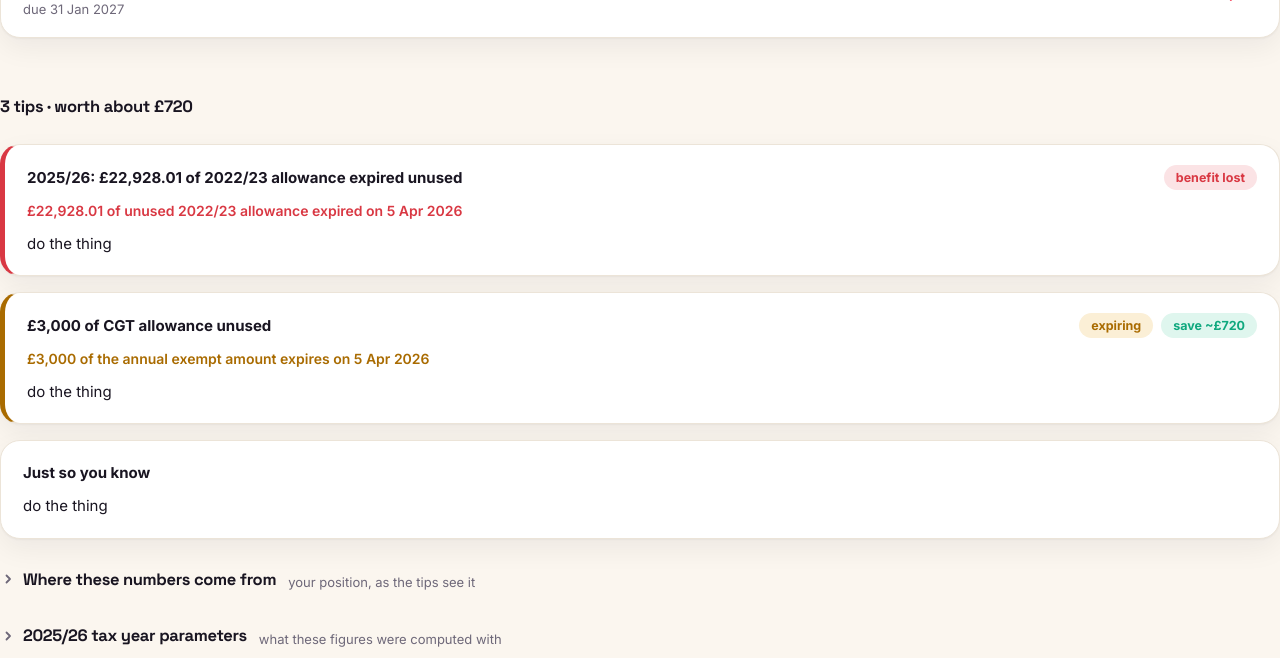
Test case: the year parameters are on the page, with the gov.uk page they came from
The width and height of the screenshot is (1280, 658).
(page scrolled)
Click the button "2025/26 tax year parameters".
click(123, 636)  # box [0,623,247,649]
(page scrolled)
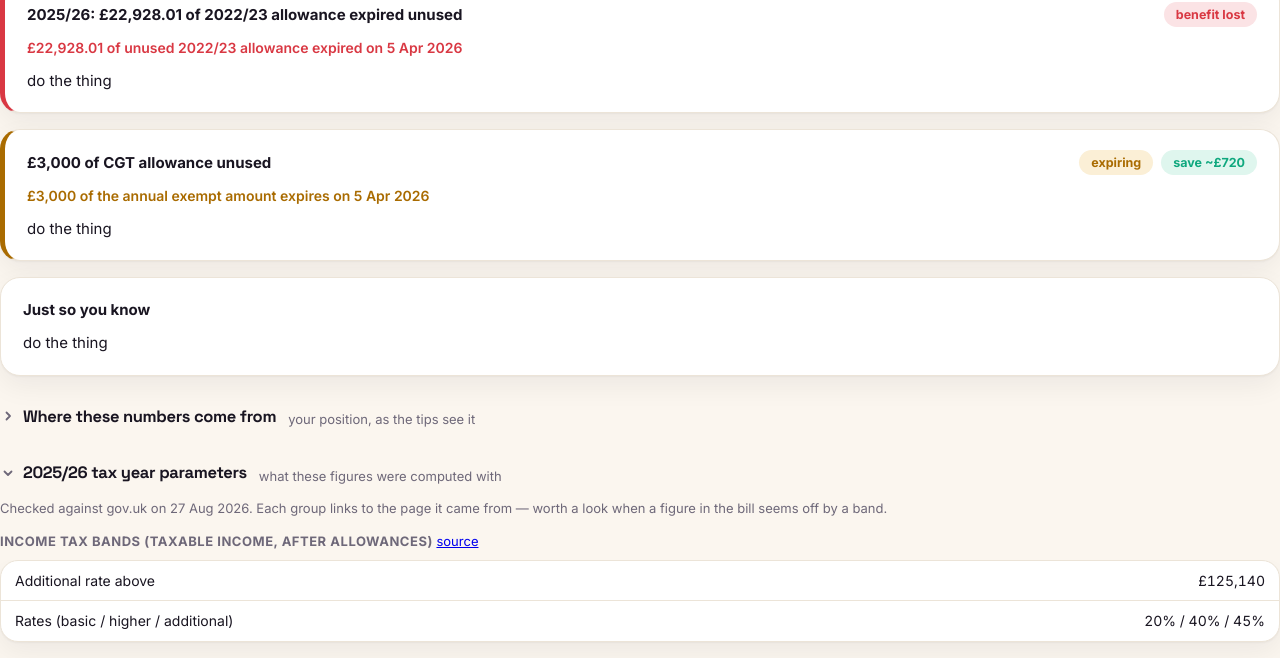
Expected: the text "2025/26 tax year parameters" shows "Additional rate above", [15,572,155,589]
Expected: the text "2025/26 tax year parameters" shows "£125,140", [1198,572,1265,589]
Expected: the text "2025/26 tax year parameters" shows "20% / 40% / 45%", [1144,612,1265,629]
